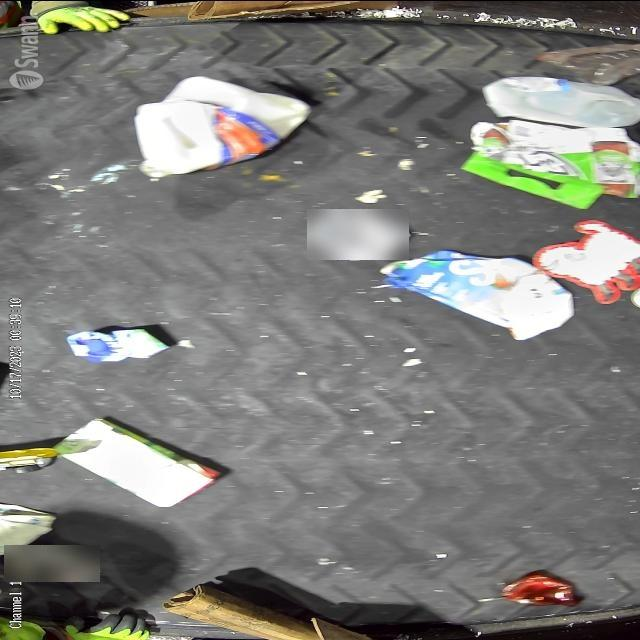milk_jug: (132, 75, 310, 177), (479, 74, 640, 124)
non_white_jug: (380, 249, 572, 340)
